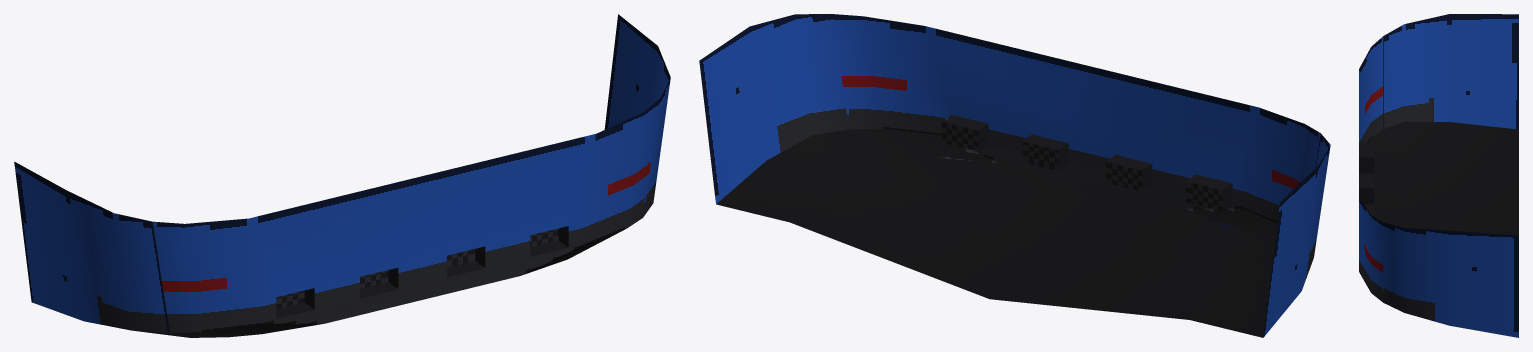
The model's file is bumper_R_diffuser.glb.
The picture shows the model from 3 angles, left to right: view 1: azimuth 30°, elevation 25°; view 2: azimuth 150°, elevation 25°; view 3: azimuth 270°, elevation 25°; orthographic projection. The views are drawn at different scales.
Visible parts, largest first — view 1: bumper_R_diffuser; view 2: bumper_R_diffuser; view 3: bumper_R_diffuser.
Part boxes in pixels (x1,y1,x2,y2): bumper_R_diffuser: (14, 14, 670, 337); bumper_R_diffuser: (699, 14, 1330, 337); bumper_R_diffuser: (1359, 14, 1518, 337).
Bounding box in the file's own units: 1.74 × 0.488 × 0.53.
1 material, 1 textured.
